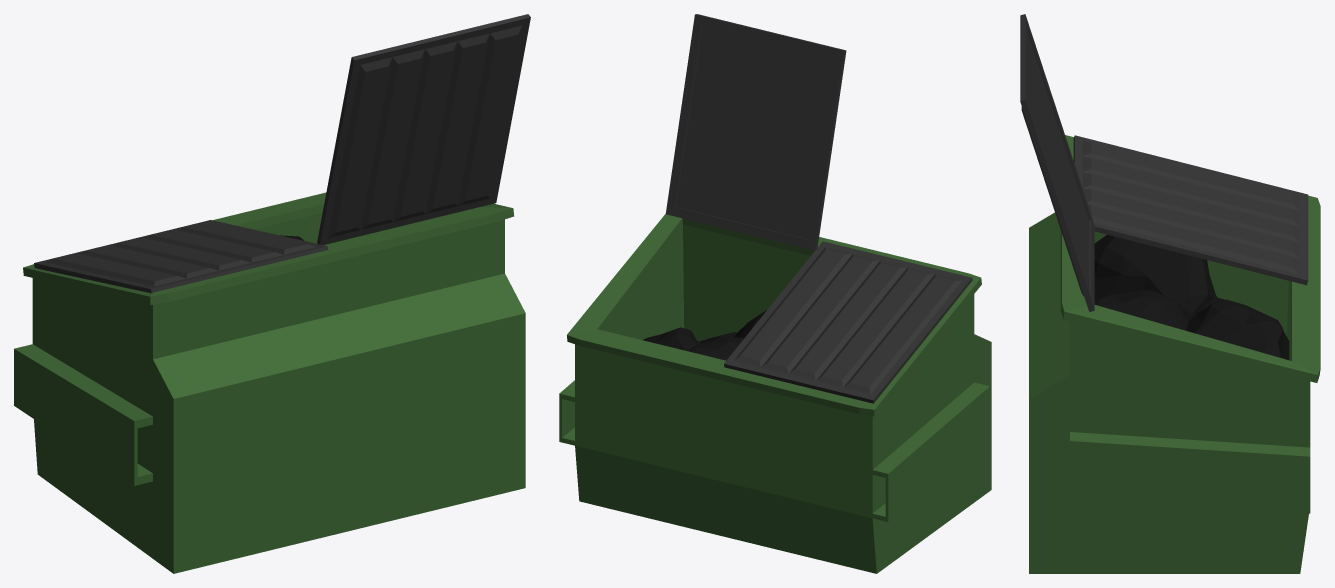
Rendered from DumpsterLeftOpen.fbx.
3 views of the same model, side by side, from view 1: azimuth 30°, elevation 25°; view 2: azimuth 150°, elevation 25°; view 3: azimuth 270°, elevation 25° (orthographic). The views are drawn at different scales.
Visible parts, largest first — view 1: DumpsterLeftOpen; view 2: DumpsterLeftOpen; view 3: DumpsterLeftOpen.
Boxes of the visible parts, x1=… form: DumpsterLeftOpen: x1=14, y1=14, x2=530, y2=573; DumpsterLeftOpen: x1=559, y1=14, x2=991, y2=573; DumpsterLeftOpen: x1=1020, y1=14, x2=1320, y2=573.
Bounding box in the file's own units: 904 × 1054 × 605.
